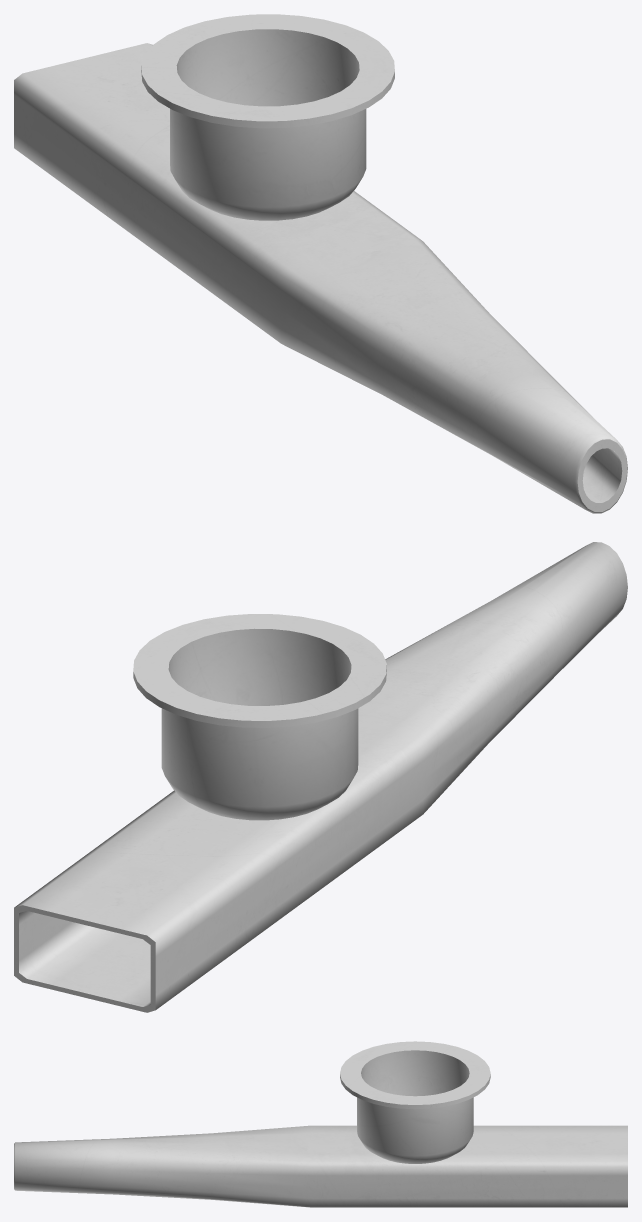
File: Kazoo.fbx
3 views of the same model, one above another, from view 1: azimuth 30°, elevation 25°; view 2: azimuth 150°, elevation 25°; view 3: azimuth 270°, elevation 25° (orthographic). The views are drawn at different scales.
Visible parts, largest first — view 1: Kazoo; view 2: Kazoo; view 3: Kazoo.
Boxes of the visible parts, left/top/right/bottom form: Kazoo: left=14, top=14, right=627, bottom=513; Kazoo: left=14, top=542, right=627, bottom=1012; Kazoo: left=14, top=1041, right=627, bottom=1207.
Size of the model in its own units: 0.0305 by 0.0262 by 0.1241.
